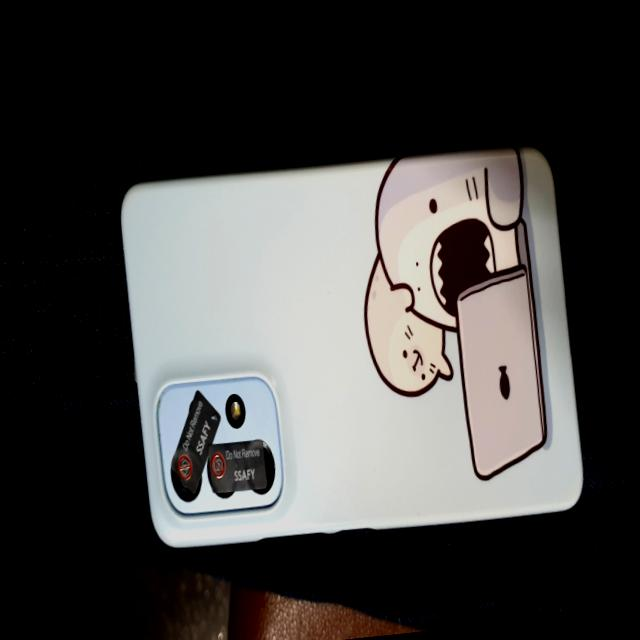phone: (118, 143, 590, 548)
sticker: (163, 388, 226, 498), (206, 437, 268, 492)
